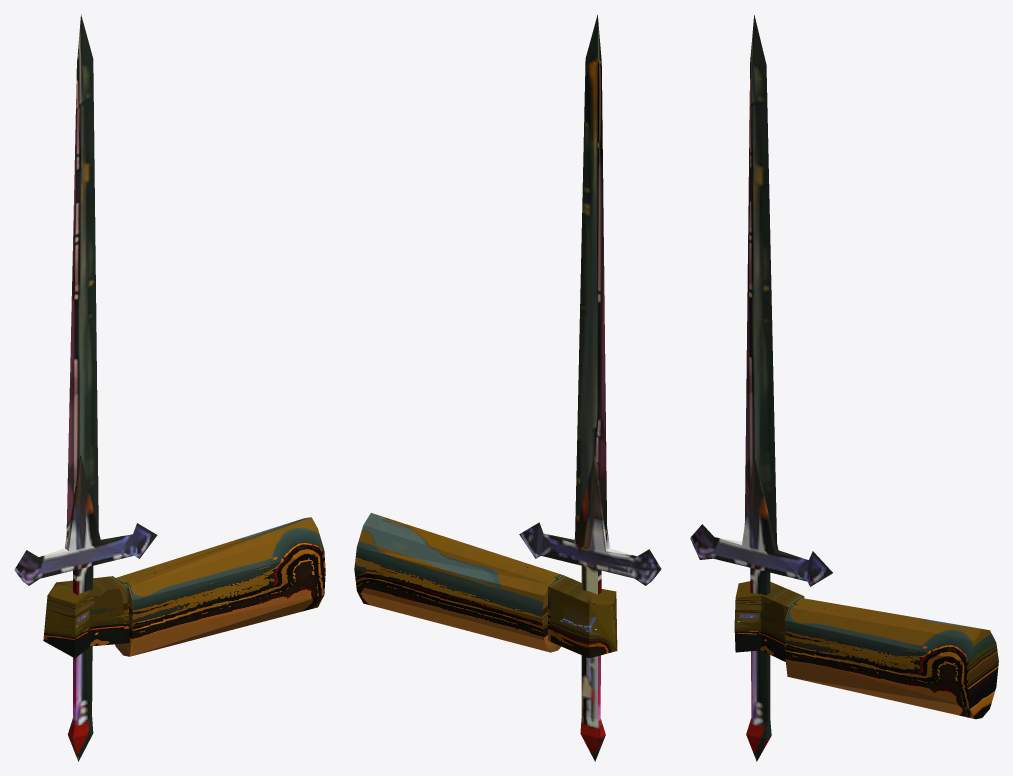
File: sw_arm.glb
3 renders of one model, left to right at view 1: azimuth 30°, elevation 25°; view 2: azimuth 150°, elevation 25°; view 3: azimuth 330°, elevation 25°, orthographic.
Visible parts, largest first — view 1: sw_arm; view 2: sw_arm; view 3: sw_arm.
Boxes of the visible parts, bbox=[...] form: sw_arm: bbox=[14, 14, 325, 761]; sw_arm: bbox=[354, 15, 661, 761]; sw_arm: bbox=[690, 15, 998, 761].
Bounding box in the file's own units: 41.18 × 100 × 7.77.
1 material, 1 textured.
